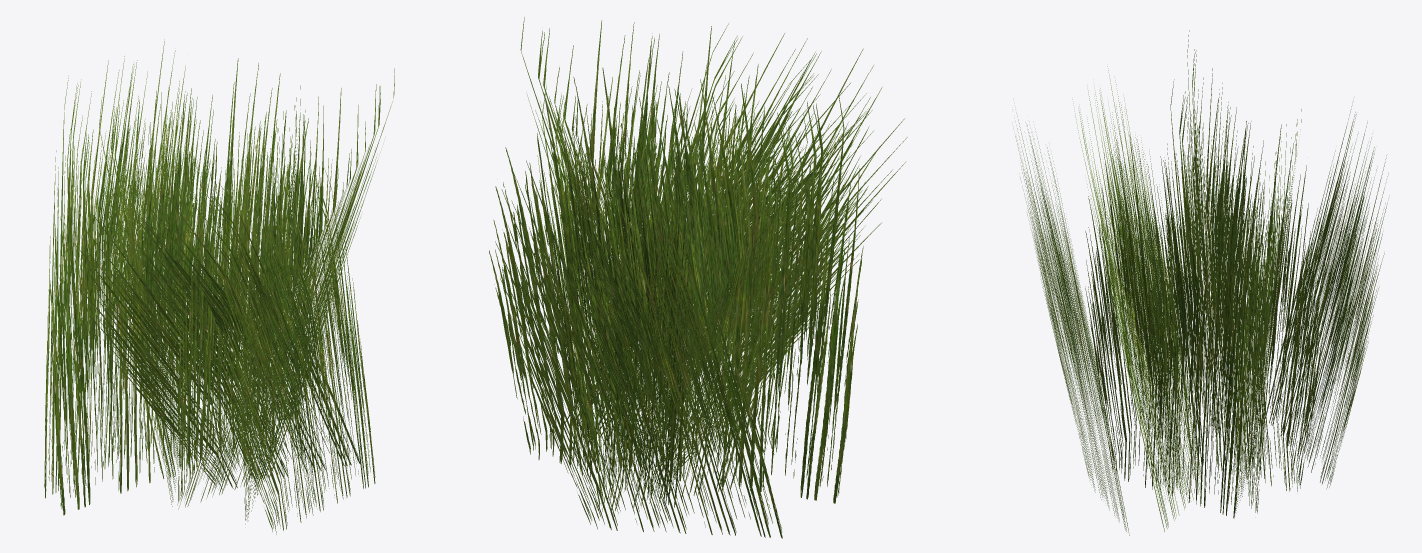
File: grass.glb
3 renders of one model, left to right at view 1: azimuth 30°, elevation 25°; view 2: azimuth 150°, elevation 25°; view 3: azimuth 270°, elevation 25°, orthographic. The views are drawn at different scales.
Visible parts, largest first — view 1: haus.001; view 2: haus.001; view 3: haus.001.
Boxes of the visible parts, bbox=[...] form: haus.001: bbox=[44, 39, 394, 534]; haus.001: bbox=[489, 17, 907, 538]; haus.001: bbox=[1015, 30, 1389, 535].
Bounding box in the file's own units: 2 × 1.88 × 1.78.
Materials: 1 (1 with a texture image).
